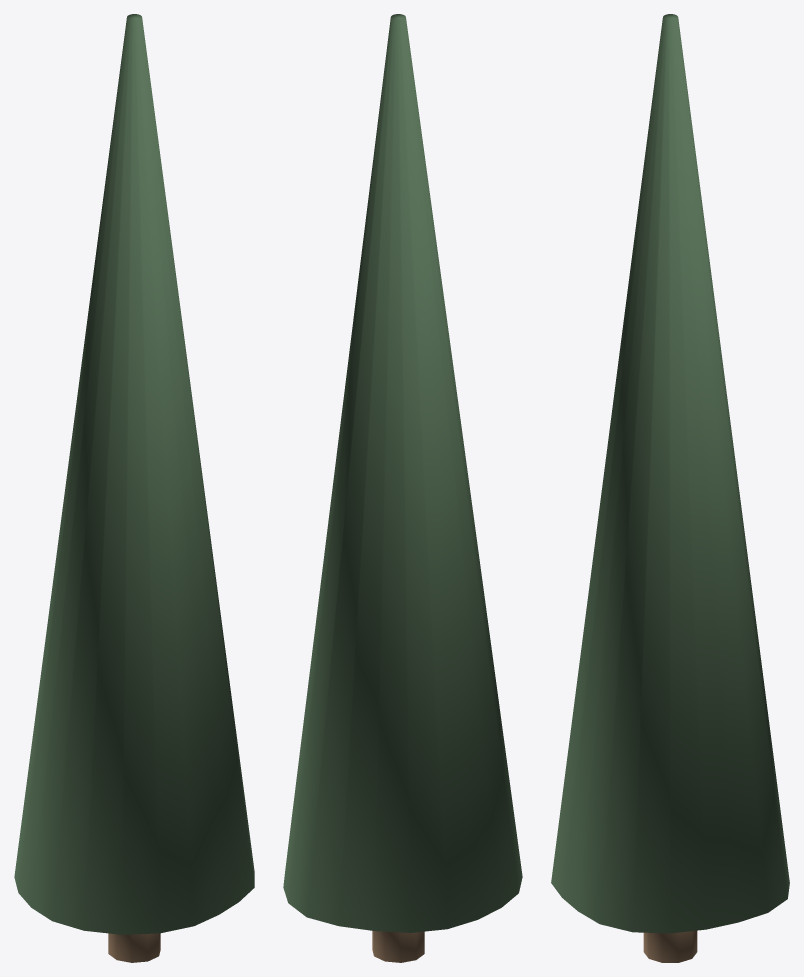
File: cypress.glb
The picture shows the model from 3 angles, left to right: view 1: azimuth 30°, elevation 25°; view 2: azimuth 150°, elevation 25°; view 3: azimuth 270°, elevation 25°; orthographic projection.
Visible parts, largest first — view 1: SM_Cypress; view 2: SM_Cypress; view 3: SM_Cypress.
Part boxes in pixels (left/top/right/bottom): SM_Cypress: left=14, top=14, right=254, bottom=962; SM_Cypress: left=283, top=14, right=522, bottom=962; SM_Cypress: left=551, top=14, right=789, bottom=962.
Size of the model in its own units: 2.5 by 10.8 by 2.5.
